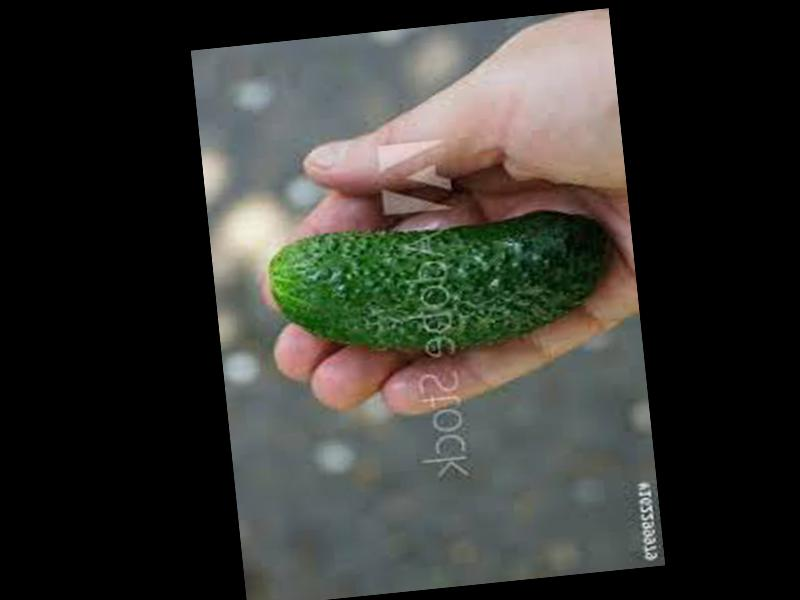Cucumber: (268, 205, 616, 369)
